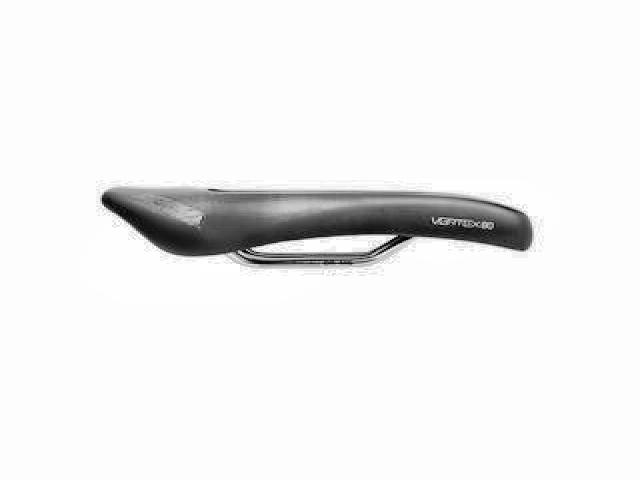saddle: (97, 177, 536, 272)
